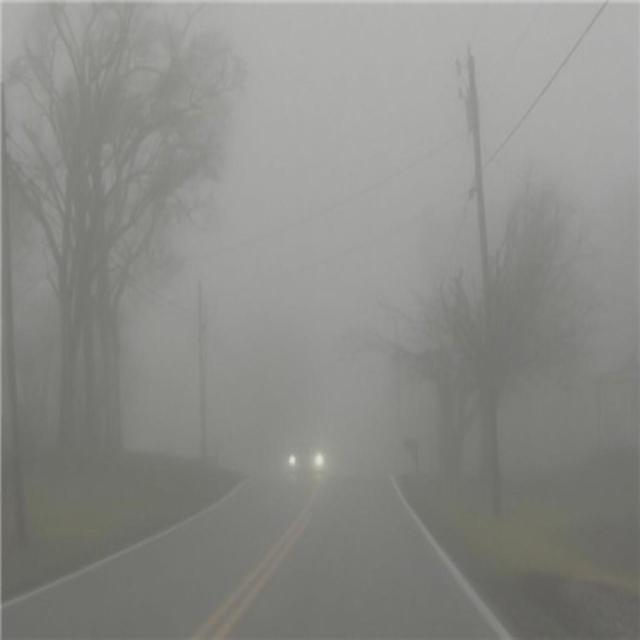Car: (286, 439, 330, 474)
